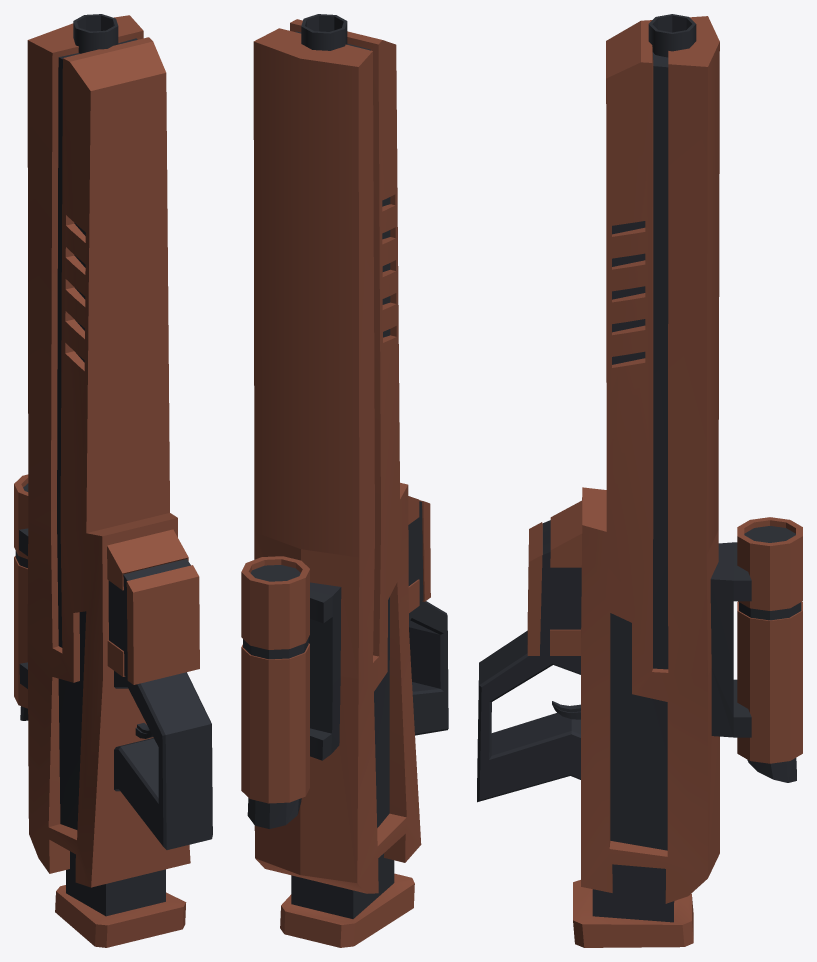
Rendered from low poly scifi gun002.fbx.
3 views of the same model, side by side, from view 1: azimuth 30°, elevation 25°; view 2: azimuth 150°, elevation 25°; view 3: azimuth 270°, elevation 25° (orthographic). The views are drawn at different scales.
Parts seen in each view (by area): view 1: low poly scifi gun002; view 2: low poly scifi gun002; view 3: low poly scifi gun002.
Boxes of the visible parts, x1,y1,x2,y2 form: low poly scifi gun002: (14,14,212,947); low poly scifi gun002: (241,14,448,947); low poly scifi gun002: (477,14,802,947).
Bounding box in the file's own units: 3.2 × 26.48 × 8.64.
